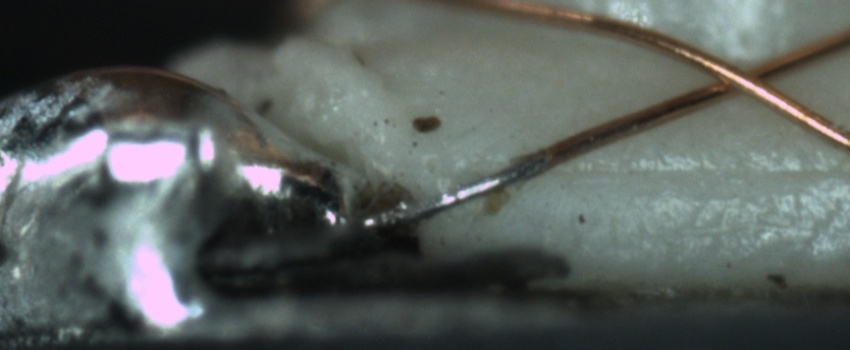CL: (691, 45, 792, 105)
DL: (540, 140, 850, 204)
TS: (348, 160, 534, 233)
TTCW: (375, 136, 584, 227)
